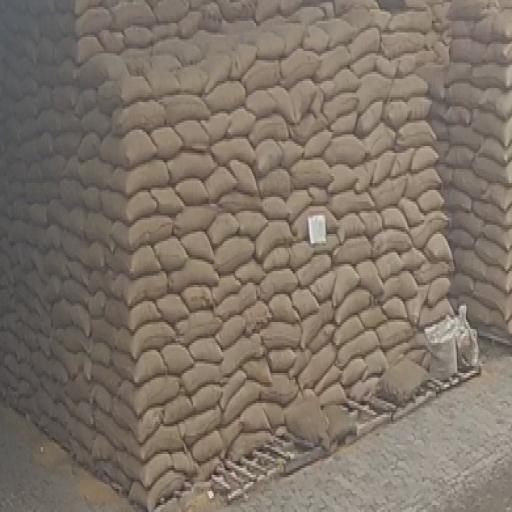Rice-bag-10: (119, 375, 179, 415), (112, 215, 172, 250), (100, 130, 155, 167), (110, 160, 168, 195), (118, 322, 175, 357), (114, 271, 165, 306), (77, 53, 127, 88), (101, 190, 155, 222), (113, 100, 164, 132), (291, 206, 336, 241), (169, 259, 218, 290), (106, 301, 160, 329), (114, 350, 164, 380), (177, 310, 221, 343), (217, 283, 256, 320), (100, 76, 151, 104), (215, 236, 253, 273), (168, 151, 214, 181), (114, 246, 159, 276), (281, 49, 318, 83), (165, 95, 209, 123), (291, 158, 332, 188), (256, 222, 291, 257), (289, 79, 318, 120), (205, 81, 244, 111), (326, 134, 365, 164), (315, 46, 349, 79), (150, 188, 185, 220), (260, 269, 297, 299), (267, 86, 297, 123), (251, 114, 288, 144), (330, 190, 373, 215), (176, 206, 214, 234), (156, 39, 200, 63), (205, 167, 235, 202), (243, 60, 278, 90), (291, 114, 326, 144), (333, 236, 370, 264), (320, 70, 358, 97), (213, 137, 253, 162), (333, 264, 358, 303), (151, 127, 182, 158), (161, 343, 193, 373), (156, 294, 188, 324), (298, 255, 330, 285), (209, 213, 238, 246), (205, 53, 230, 90), (189, 336, 222, 364), (202, 111, 230, 144), (176, 120, 209, 148), (323, 93, 357, 120), (155, 239, 185, 269), (260, 169, 290, 199), (217, 315, 244, 348), (243, 301, 270, 334), (219, 192, 261, 213), (256, 139, 281, 174), (181, 232, 213, 259), (79, 158, 110, 185), (230, 160, 256, 192), (245, 90, 277, 116), (269, 294, 298, 322), (176, 178, 207, 204), (274, 25, 302, 53), (328, 164, 356, 192), (182, 285, 213, 310), (236, 211, 267, 236), (231, 44, 255, 76), (227, 107, 255, 134), (291, 290, 319, 317), (337, 213, 364, 241), (147, 70, 177, 95), (286, 190, 311, 220), (213, 276, 240, 303), (256, 30, 282, 58), (235, 259, 264, 283), (278, 139, 302, 167), (311, 271, 333, 301), (305, 130, 331, 155), (289, 241, 312, 269), (303, 25, 327, 51), (263, 197, 289, 220), (264, 246, 289, 269), (179, 67, 203, 90), (331, 111, 356, 132), (126, 53, 148, 74), (147, 56, 180, 70), (314, 234, 337, 250), (309, 188, 327, 204)
other: (155, 343, 511, 510), (0, 408, 138, 510)
pile: (0, 0, 452, 510), (394, 0, 511, 343)
